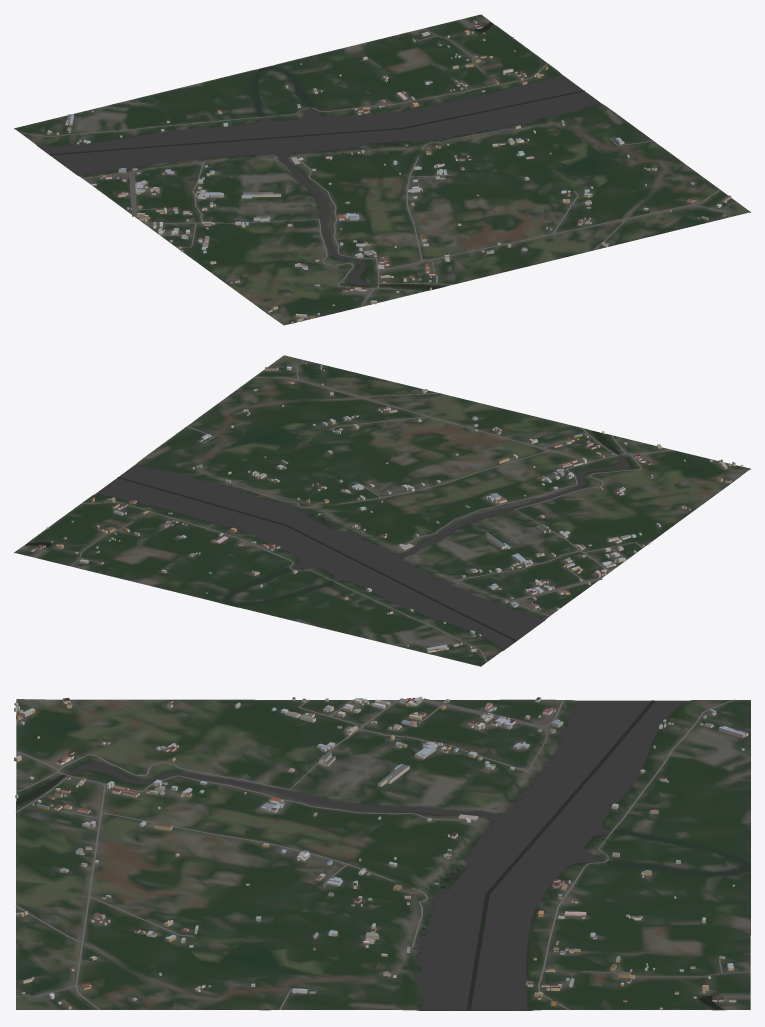
The picture shows the model from 3 angles, top to bottom: view 1: azimuth 30°, elevation 25°; view 2: azimuth 150°, elevation 25°; view 3: azimuth 270°, elevation 25°; orthographic projection. The views are drawn at different scales.
Parts seen in each view (by area): view 1: ground, water, buildings, roads; view 2: ground, water, buildings, roads; view 3: ground, water, buildings, roads.
Part boxes in pixels (left/top/right/bottom): ground: left=14, top=14, right=750, bottom=325; water: left=38, top=22, right=658, bottom=289; buildings: left=47, top=19, right=731, bottom=323; roads: left=20, top=28, right=731, bottom=319; ground: left=14, top=355, right=750, bottom=666; water: left=24, top=422, right=629, bottom=649; buildings: left=30, top=361, right=743, bottom=652; roads: left=70, top=360, right=727, bottom=662; ground: left=16, top=699, right=750, bottom=1010; water: left=16, top=700, right=750, bottom=1010; buildings: left=14, top=696, right=748, bottom=1010; roads: left=15, top=698, right=750, bottom=1009.
Bounding box in the file's own units: 1406 × 14.83 × 1405.
